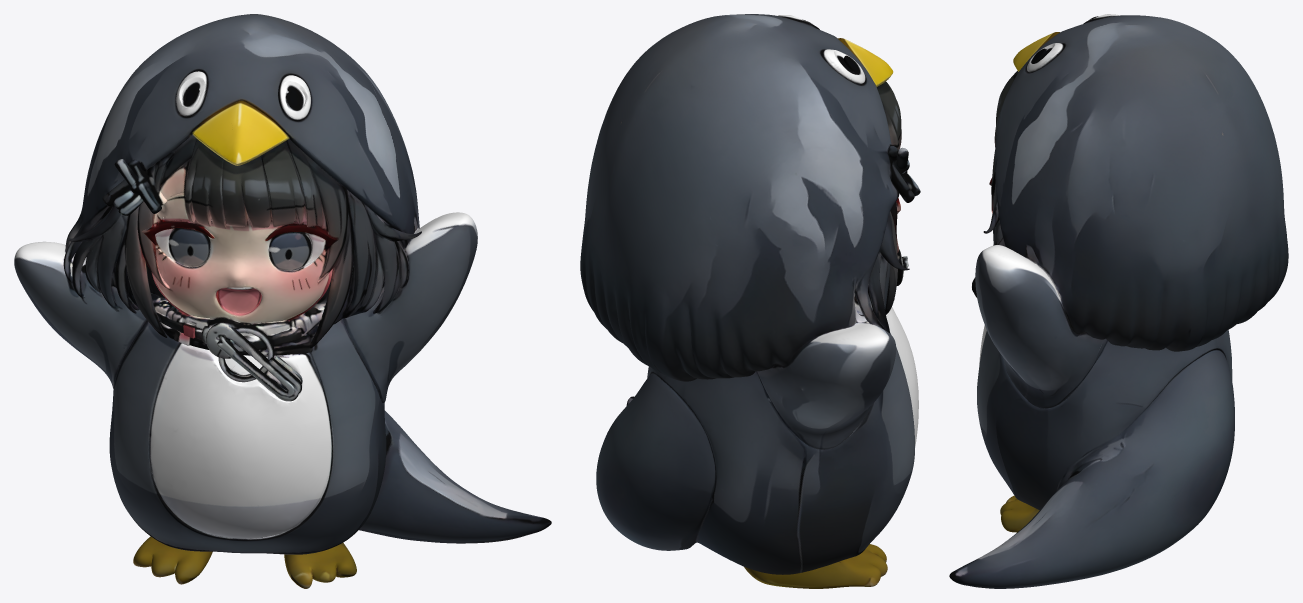
Rendered from gugugaga.glb.
3 views of the same model, side by side, from view 1: azimuth 30°, elevation 25°; view 2: azimuth 150°, elevation 25°; view 3: azimuth 270°, elevation 25° (orthographic). The views are drawn at different scales.
Visible parts, largest first — view 1: Object_3, Object_4, Object_2; view 2: Object_3, Object_4; view 3: Object_3, Object_4.
Boxes of the visible parts, left/top/right/bottom form: Object_3: left=14, top=14, right=551, bottom=588; Object_4: left=67, top=15, right=474, bottom=584; Object_2: left=67, top=76, right=421, bottom=576; Object_3: left=580, top=14, right=914, bottom=588; Object_4: left=584, top=14, right=920, bottom=588; Object_3: left=949, top=23, right=1288, bottom=588; Object_4: left=972, top=14, right=1288, bottom=562.
Size of the model in its own units: 1.52 by 1.9 by 1.19.
1 material, 1 textured.
